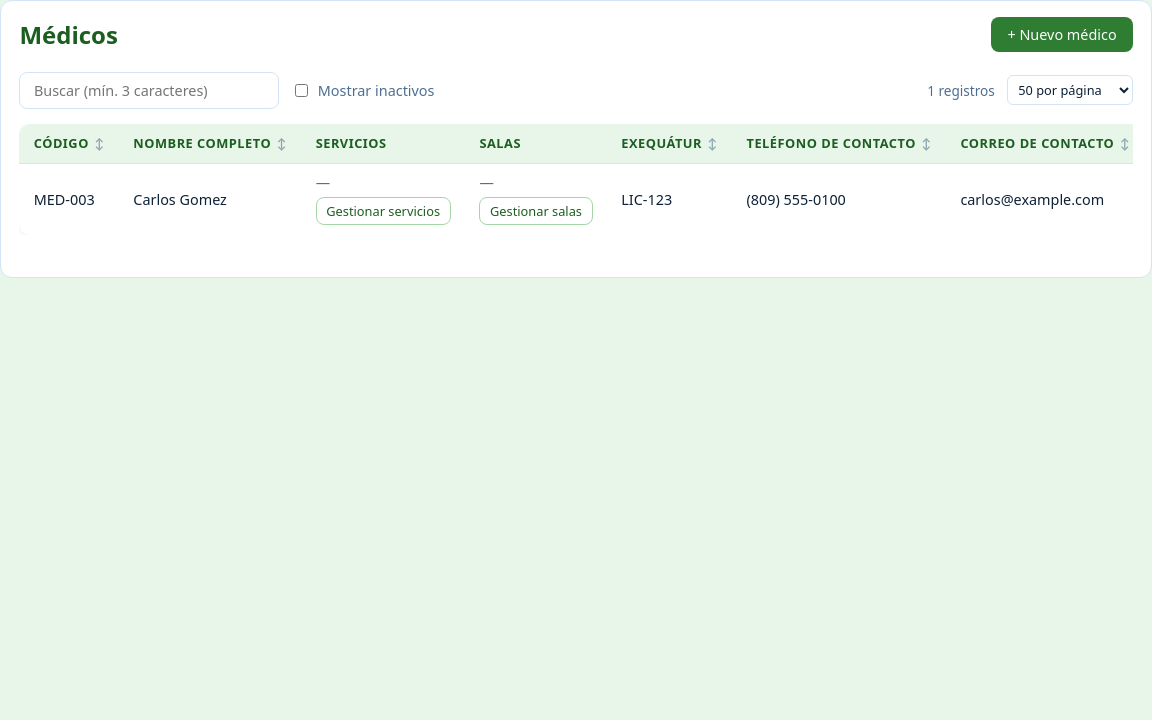
Test: Doctors › opens the manage-rooms modal for a doctor row
Expected: the text "Carlos Gomez" is shown, [119,163,301,235]
Step 1. Click the button "Gestionar salas" → (536, 211), box [479,197,592,225]
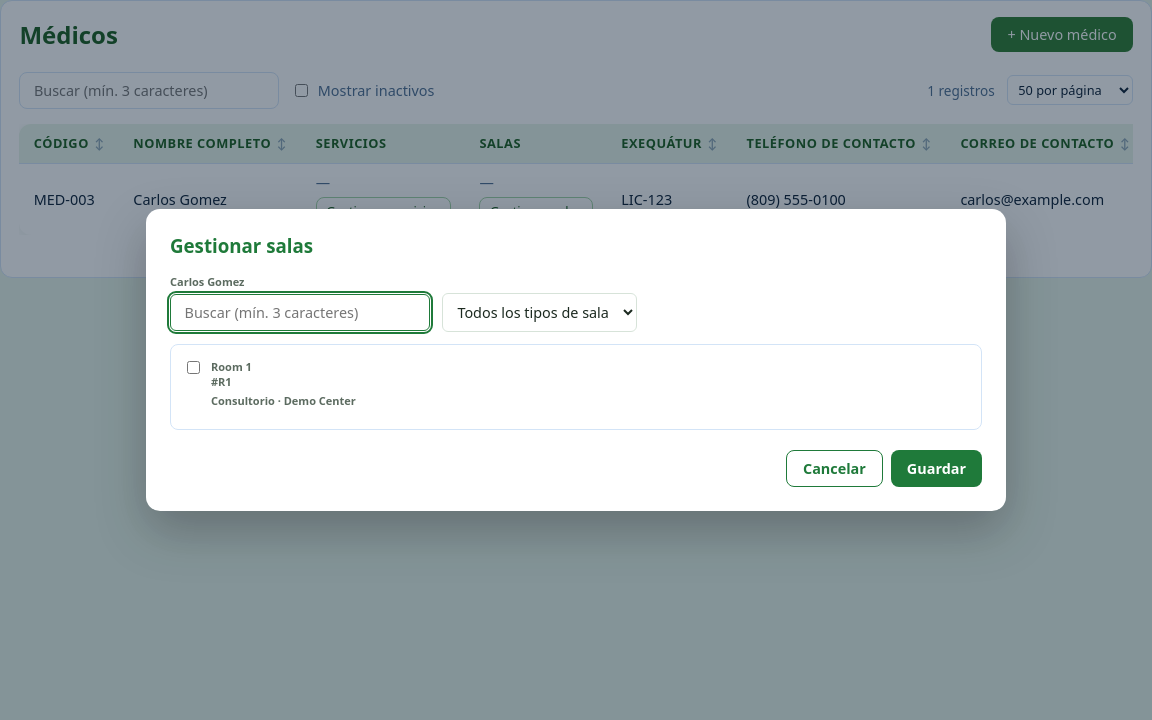
Expected: the text "Room 1" is shown, [211,358,252,374]
